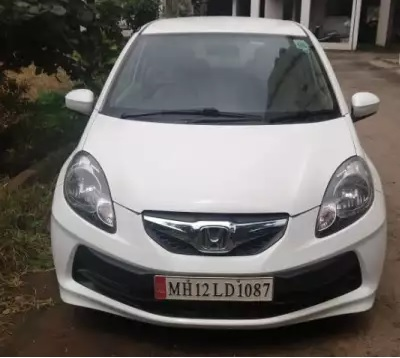licenseplate: (152, 274, 276, 304)
